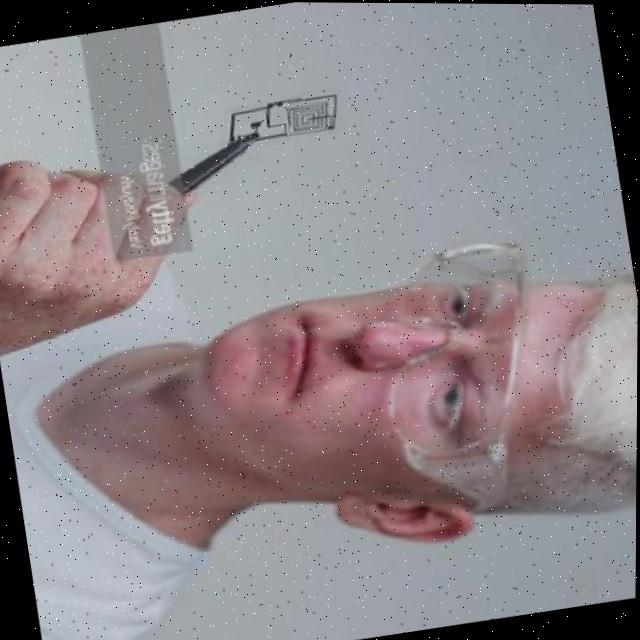goggles_on: (382, 238, 539, 516)
